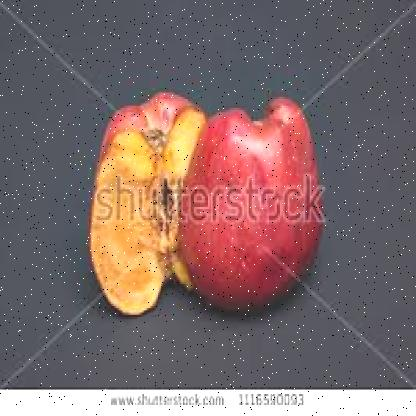damaged_apple: (186, 99, 325, 313), (90, 97, 209, 315)
